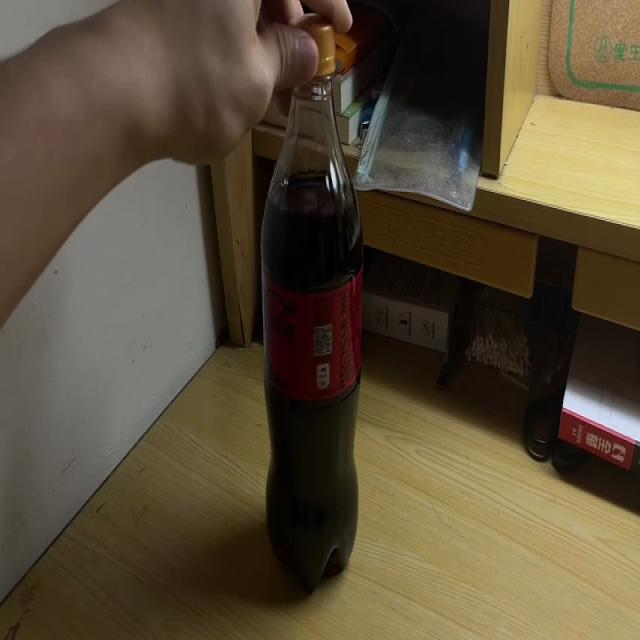Coca-Cola: (262, 13, 362, 596)
